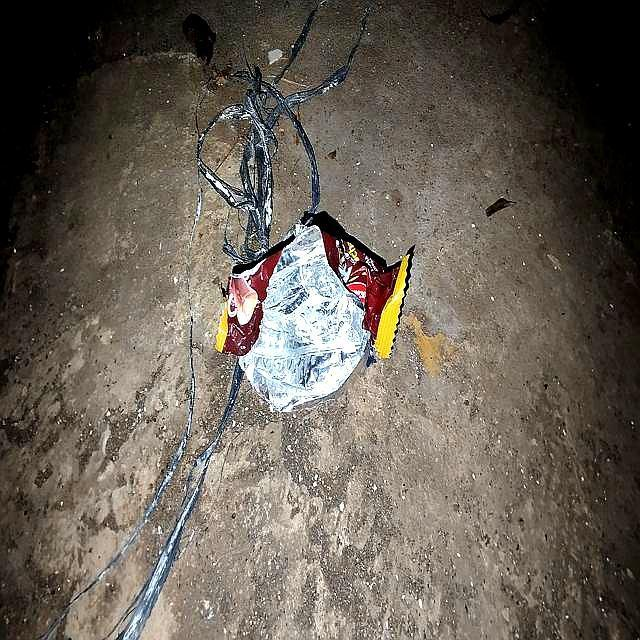Non-biodegradable: (217, 222, 412, 413)
